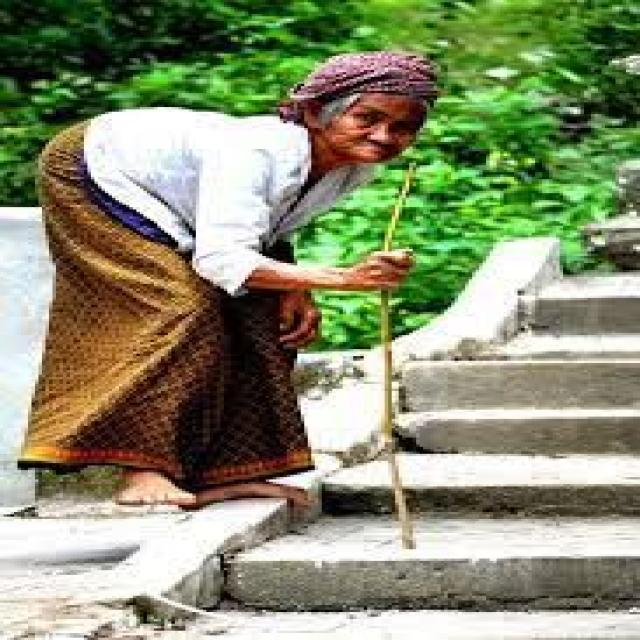idoso em pe: (0, 25, 467, 544)
